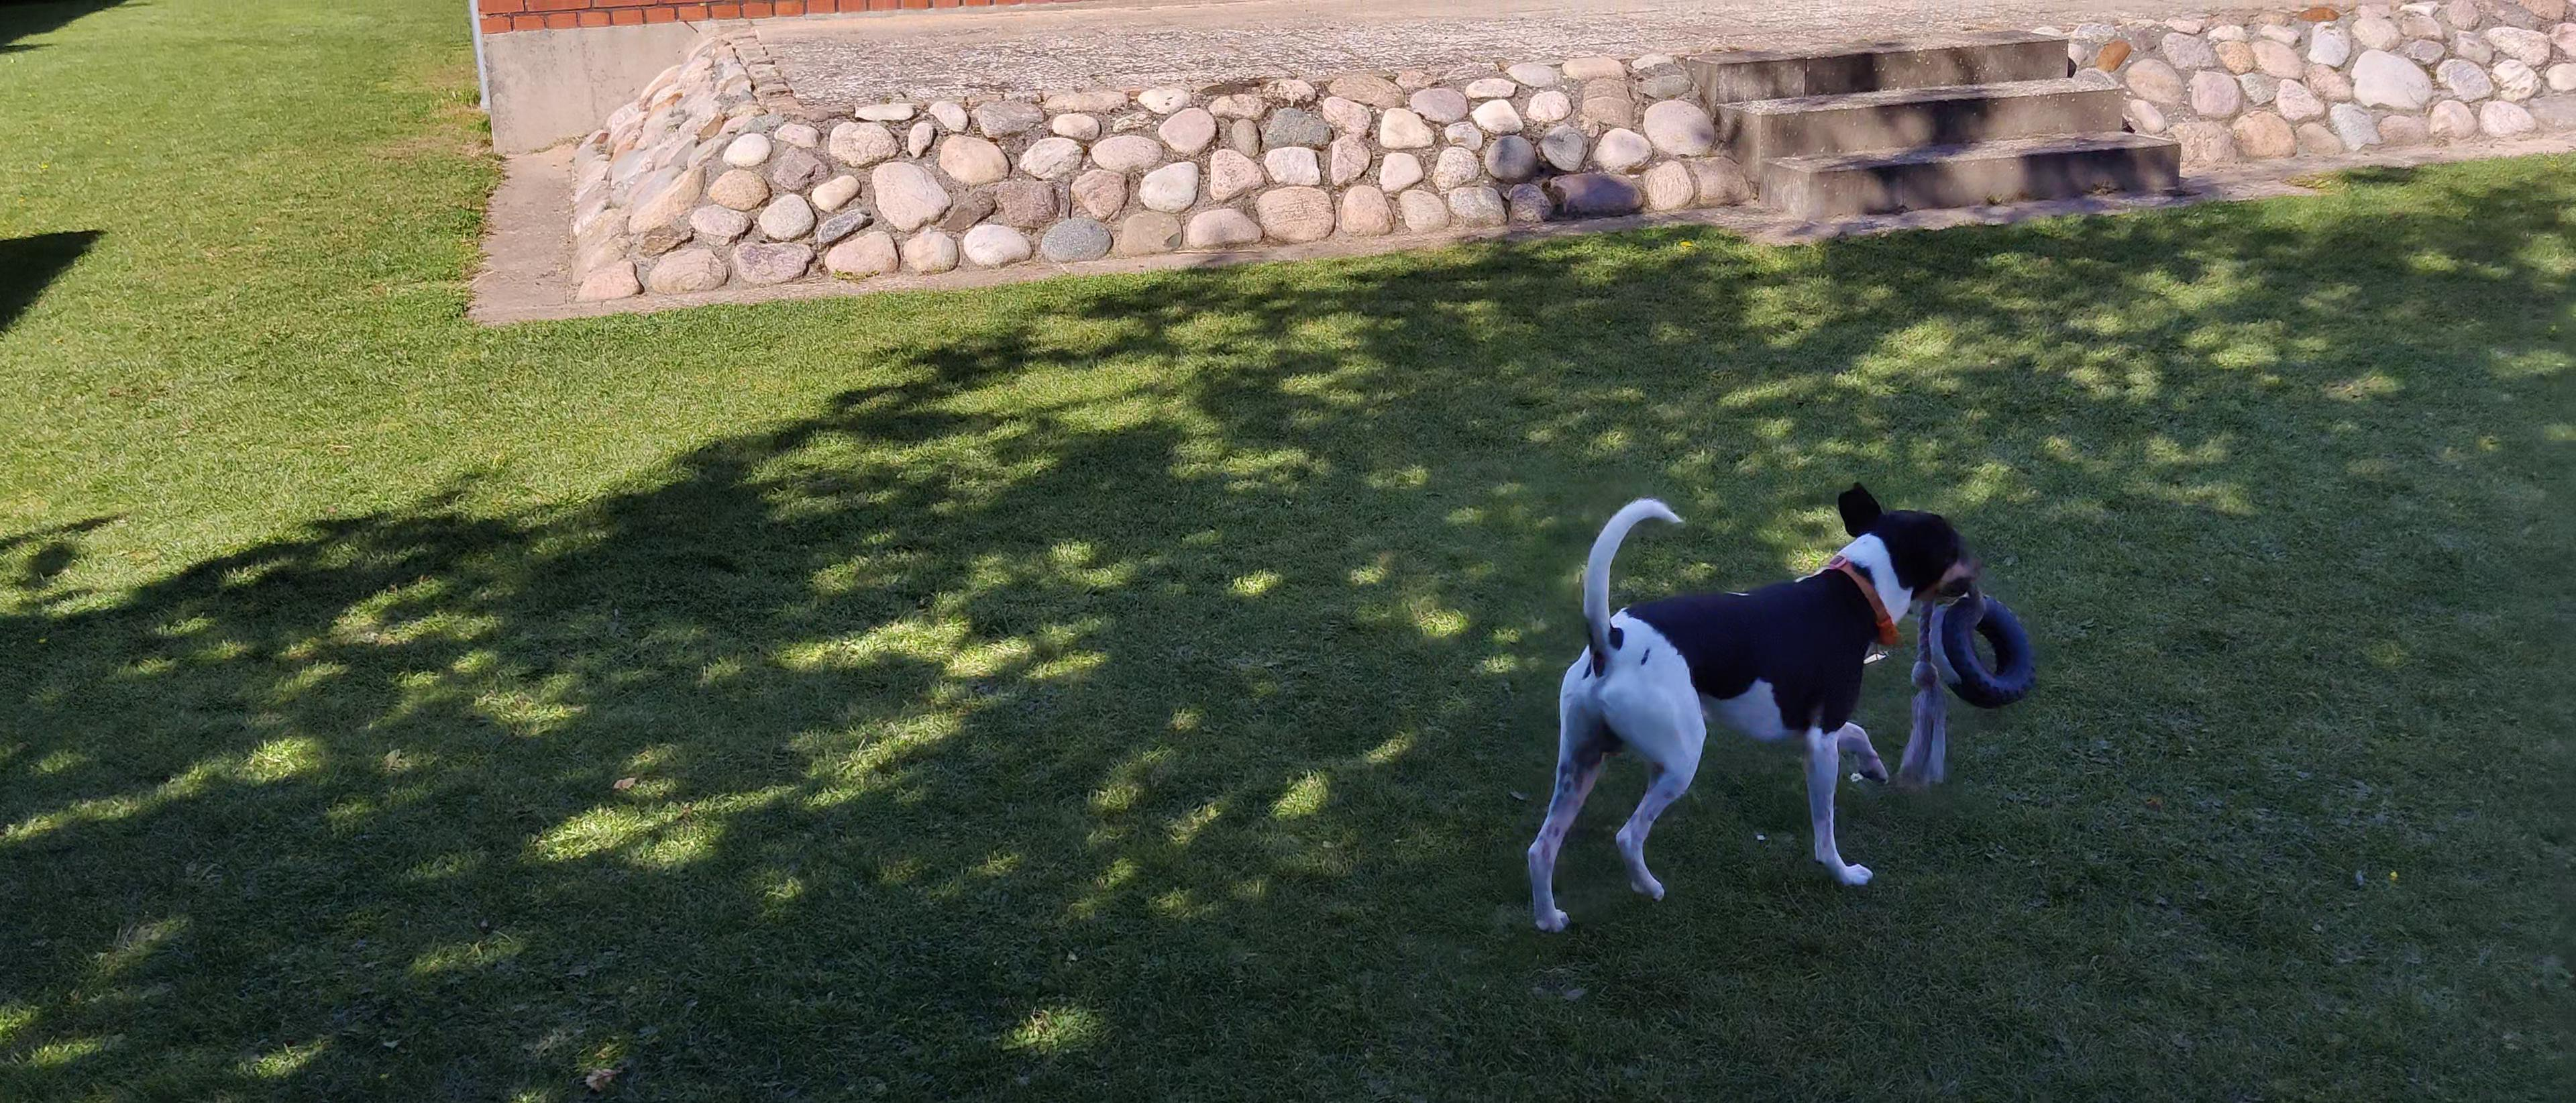Dog: (1526, 475, 1981, 937)
